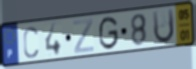4: (44, 21, 64, 58)
8: (130, 12, 149, 48)
C: (22, 25, 40, 60)
G: (98, 15, 120, 52)
U: (151, 6, 176, 46)
Z: (72, 17, 95, 55)
